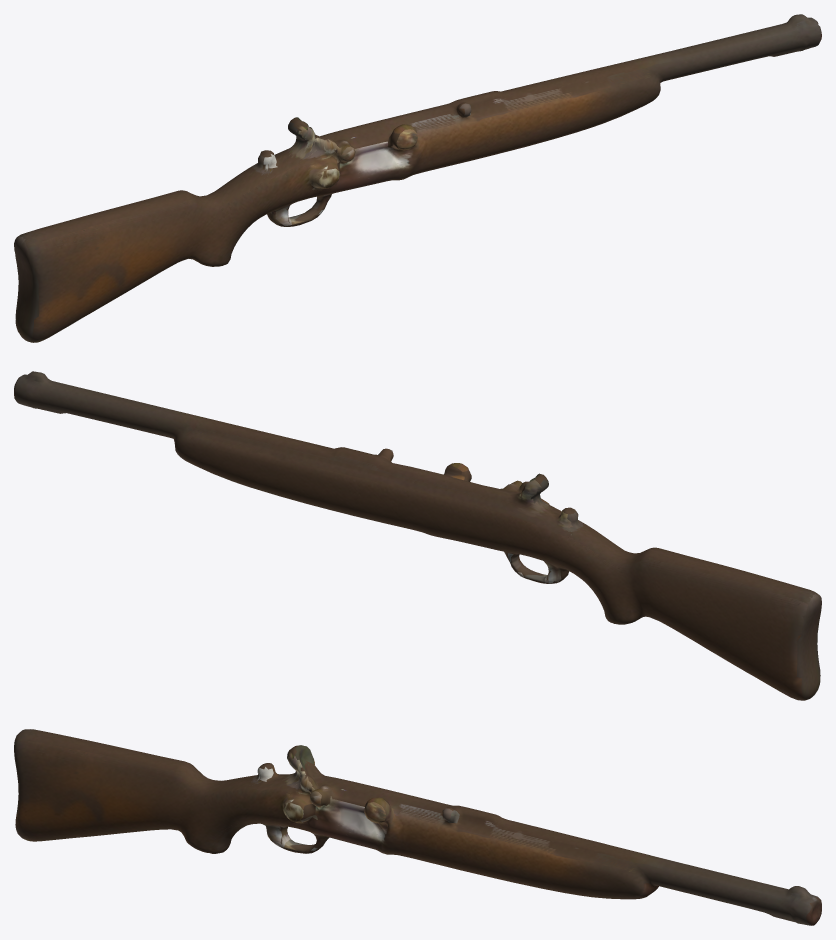
File: fusil.glb
3 views of the same model, one above another, from view 1: azimuth 30°, elevation 25°; view 2: azimuth 150°, elevation 25°; view 3: azimuth 330°, elevation 25° (orthographic).
Parts seen in each view (by area): view 1: temp_mesh.ply; view 2: temp_mesh.ply; view 3: temp_mesh.ply.
Part boxes in pixels (left/top/right/bottom): temp_mesh.ply: left=14, top=14, right=821, bottom=342; temp_mesh.ply: left=14, top=371, right=821, bottom=700; temp_mesh.ply: left=14, top=729, right=821, bottom=925.
Size of the model in its own units: 1.3 by 0.245 by 0.0871.
Materials: 1 (1 with a texture image).
